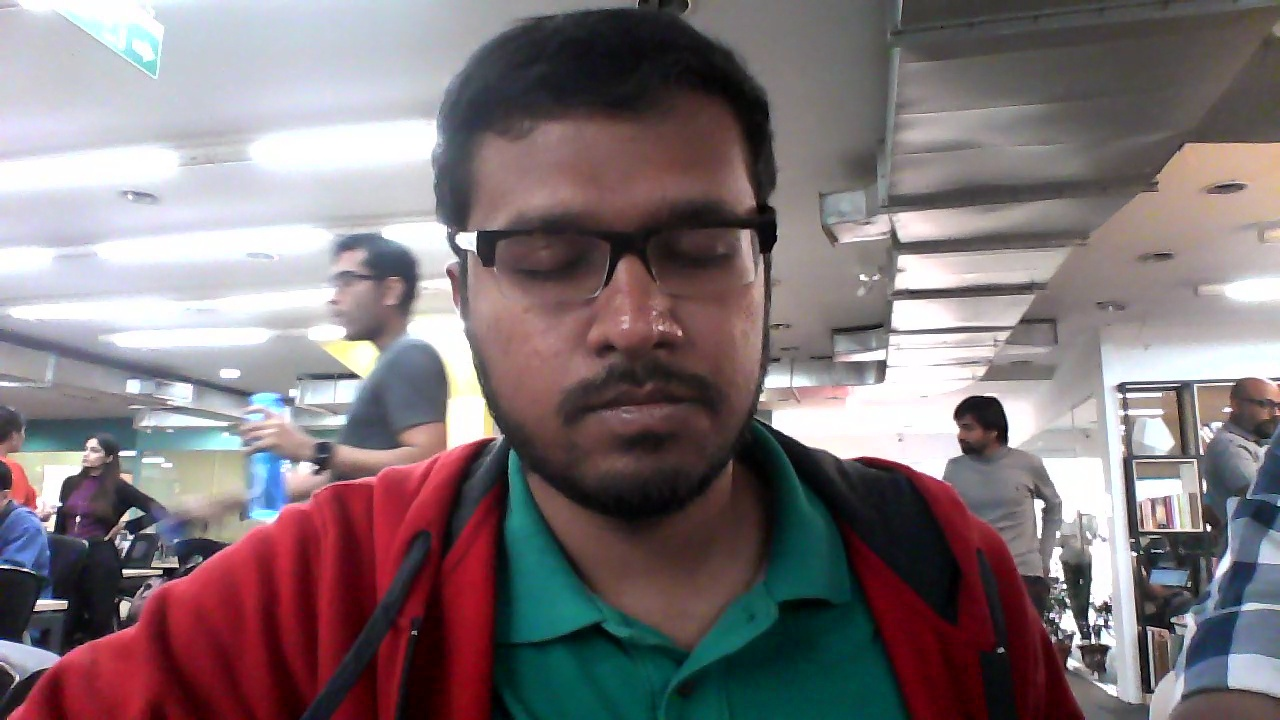closed: (429, 7, 790, 531)
